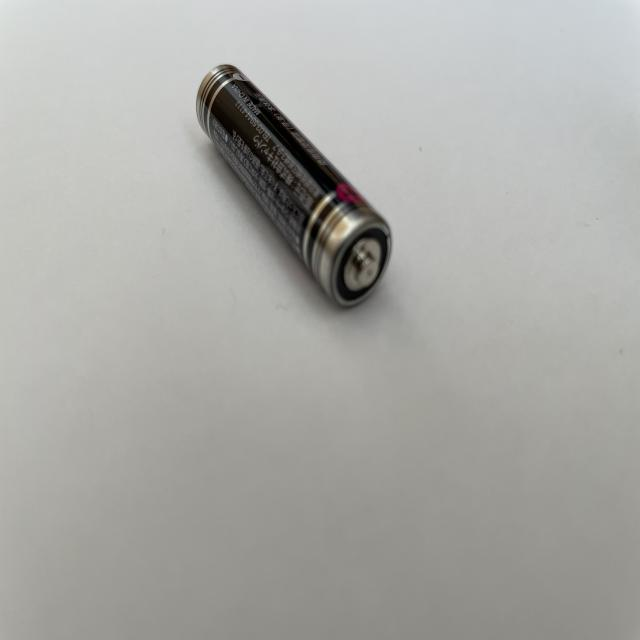AAA: (192, 60, 394, 308)
